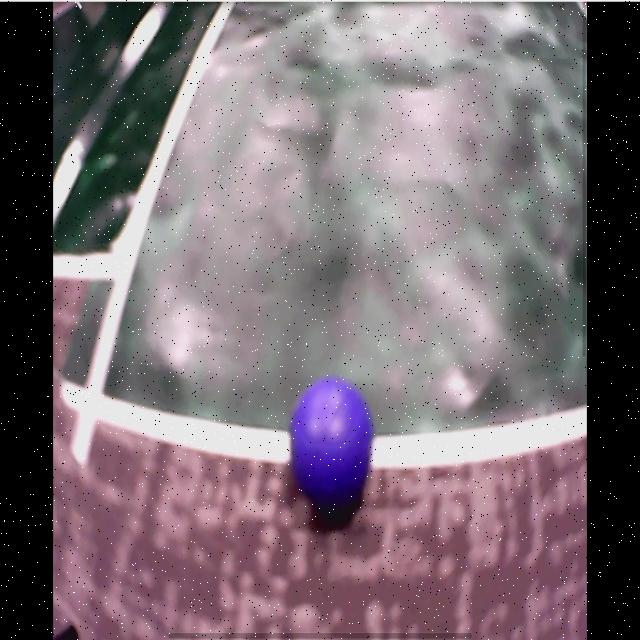ball: (293, 379, 374, 506)
